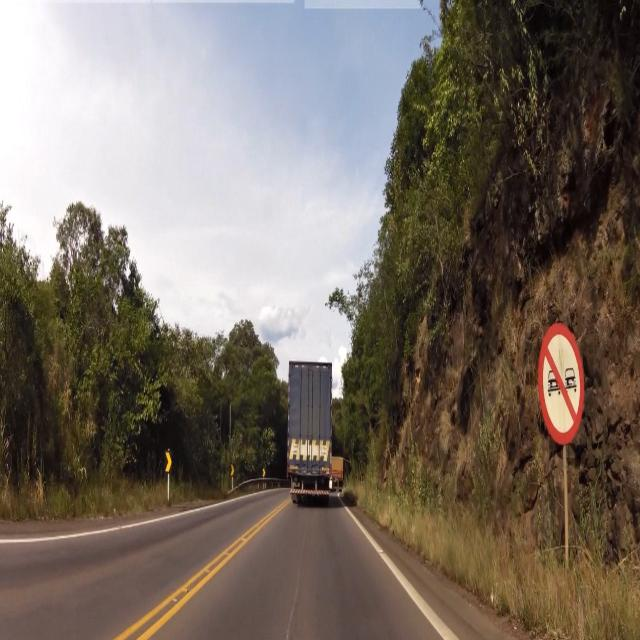Del: (163, 448, 173, 479)
R-7: (533, 304, 587, 454)
